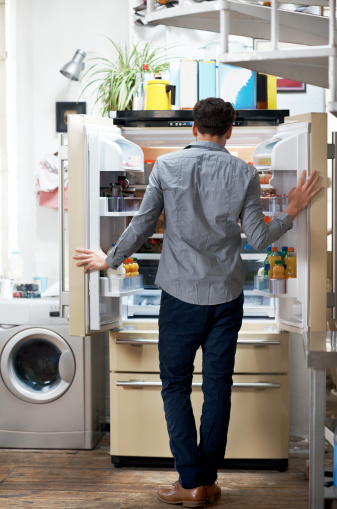em pe: (108, 106, 257, 488)
